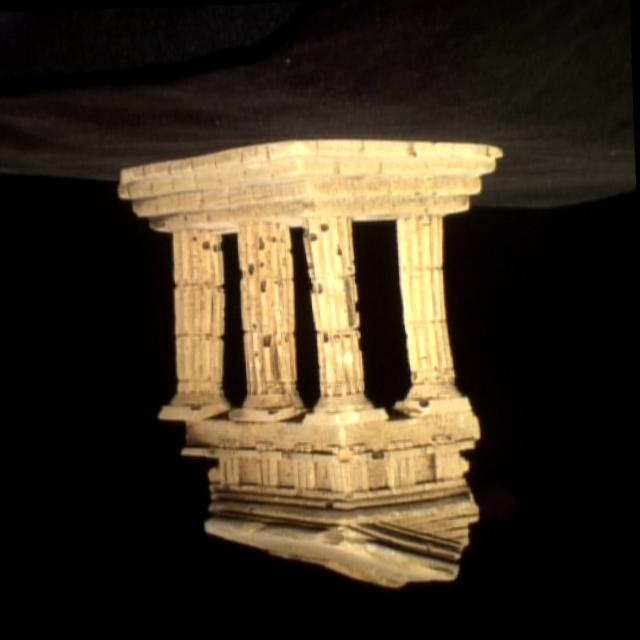Instance-Segmentation: (120, 137, 502, 586)
